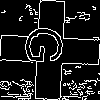G: (25, 25, 72, 66)
